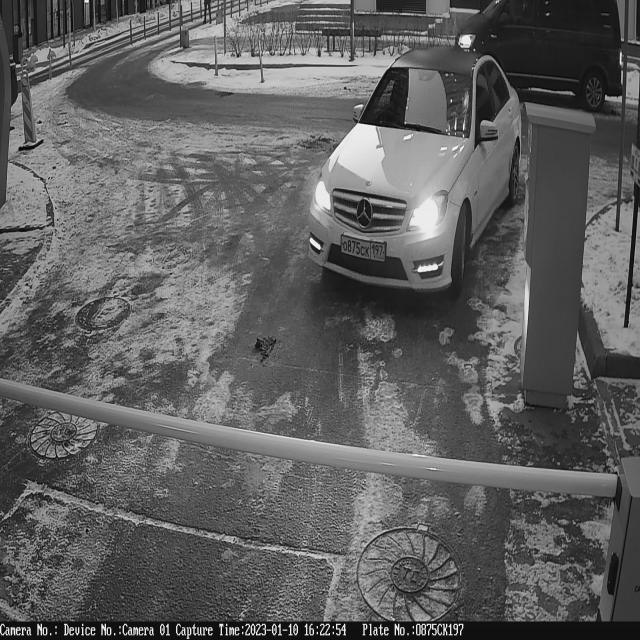car-plate-numbers: (340, 231, 389, 266)
